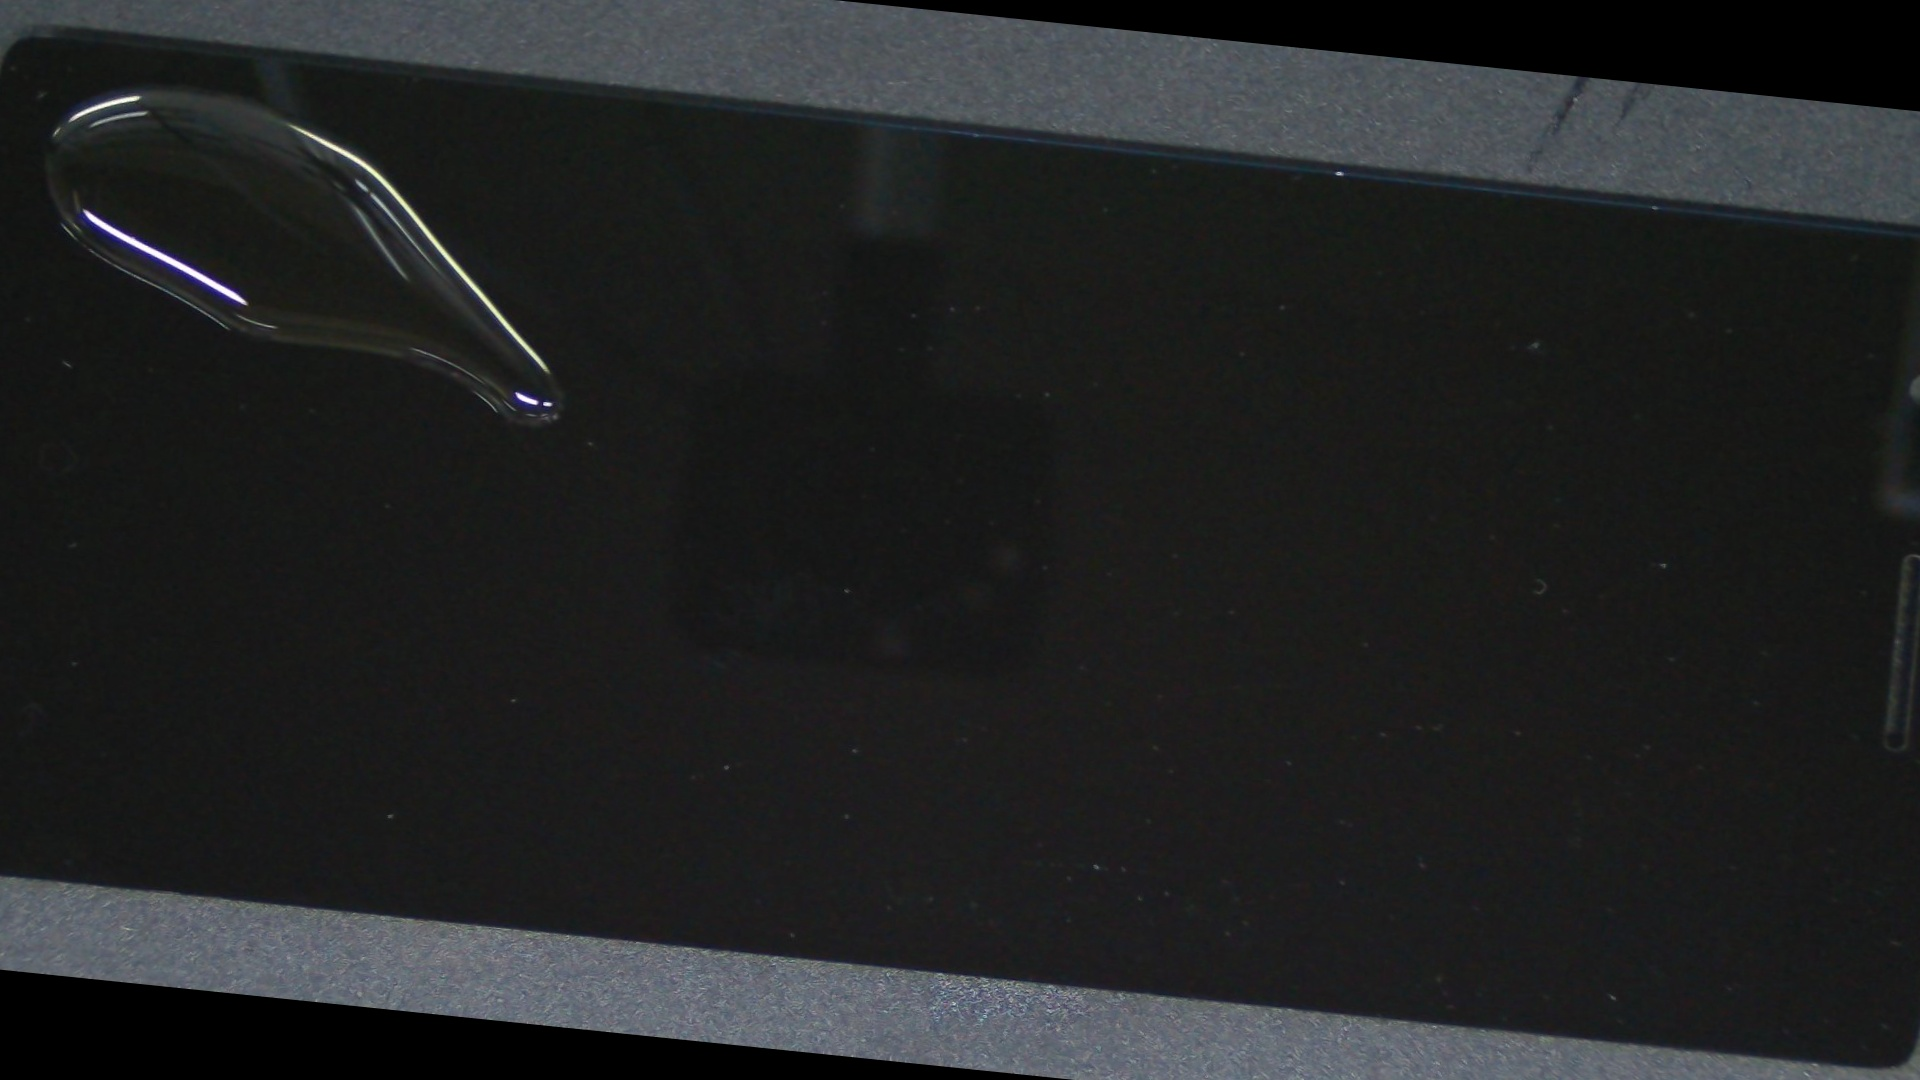oil: (9, 0, 364, 183)
